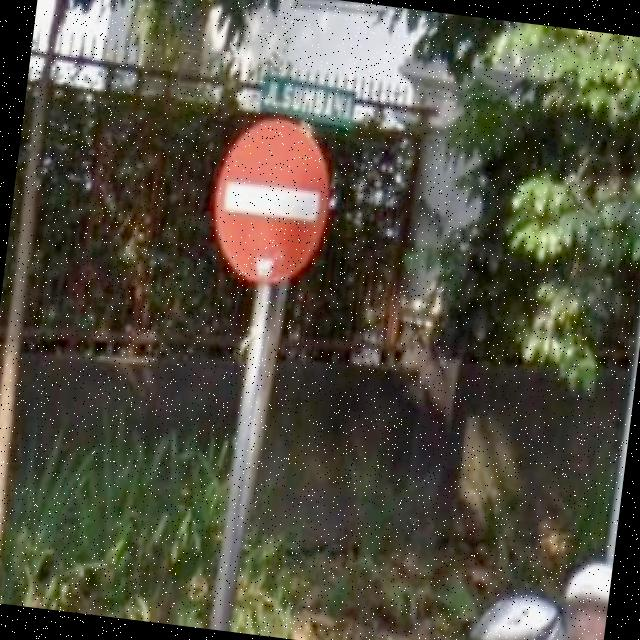Zakaz wjazdu: (204, 113, 334, 288)
